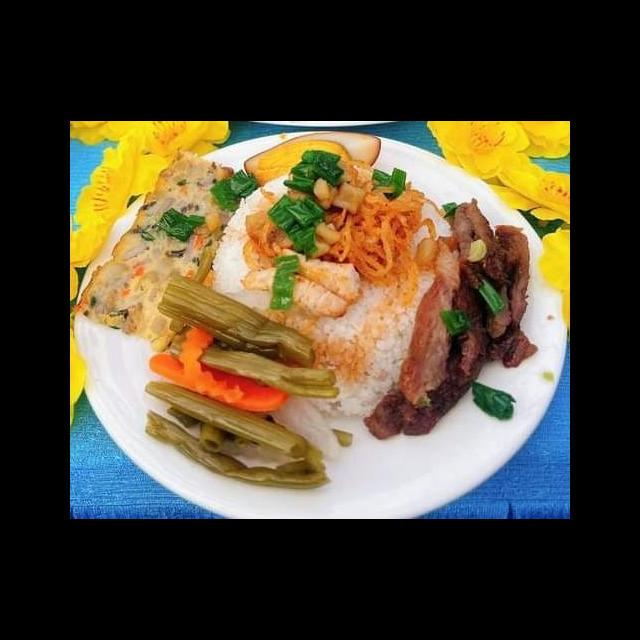cha: (71, 144, 252, 356)
com: (207, 158, 458, 422)
com suon bi cha trung: (95, 139, 570, 519)
dua chua: (141, 274, 357, 493)
suon: (361, 194, 542, 445)
trung: (242, 128, 384, 195)
